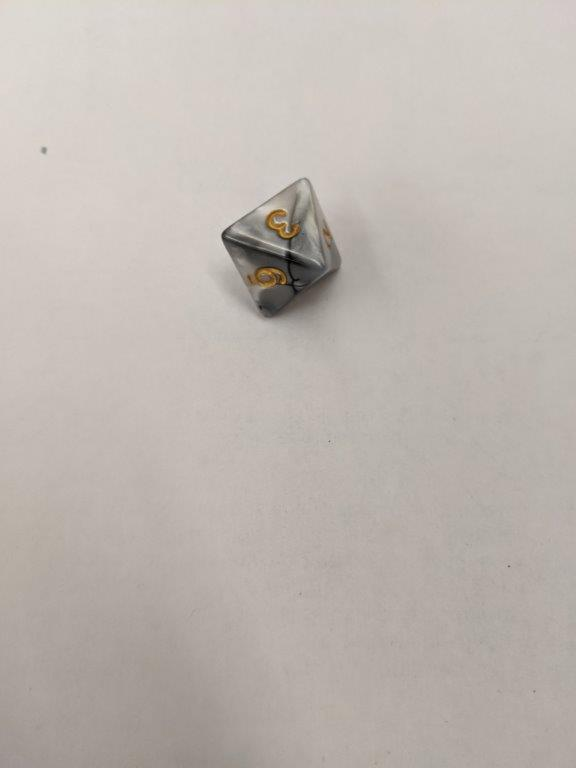d8-3: (223, 177, 340, 318)
